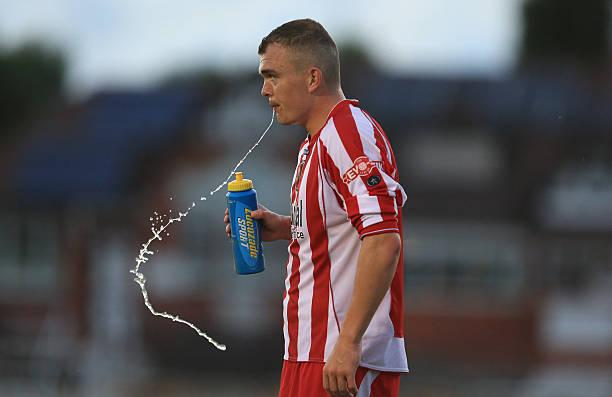Spitting: (217, 0, 363, 167)
